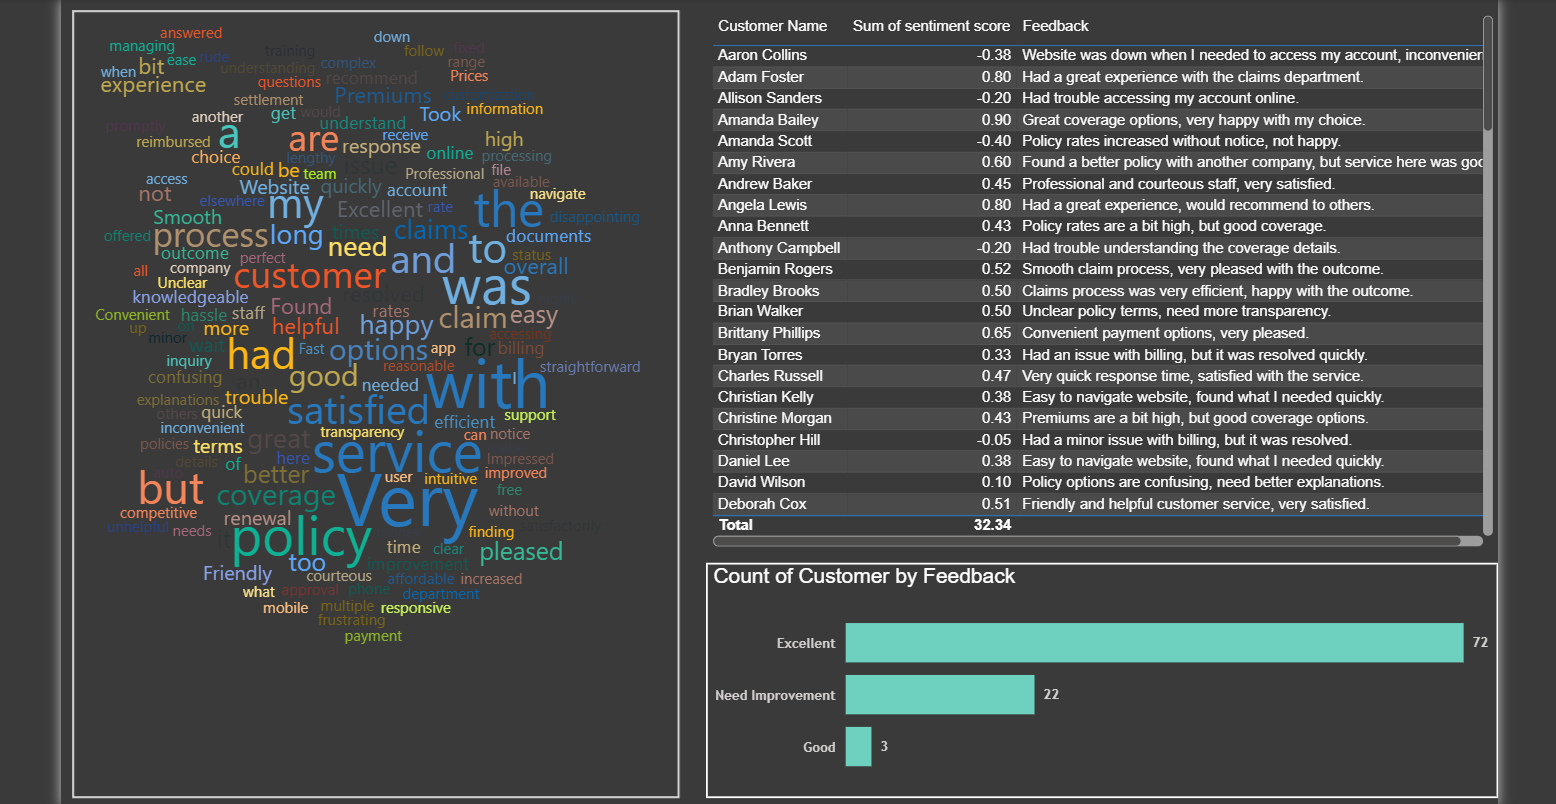

Layout of this report page (visuals, bound fields, positions):
{"tool":"powerbi","page":{"name":"Page 2","canvas":[1280,720],"ordinal":1},"visuals":[{"type":"WordCloud1447959067750","fields":{"Category":["Sheet1.Value.Feedback"],"Values":["Min(Sheet1.Value.Feedback)"]},"box":[9.8,9.8,540.9,701.4],"z":0},{"type":"barChart","title":"Count of Customer by Feedback","fields":{"Category":["Sheet1.sentiment label"],"Y":["CountNonNull(Sheet1.Value.Customer Name)"]},"box":[574.6,501.9,705.8,209.3],"z":1},{"type":"tableEx","fields":{"Values":["Sheet1.Value.Customer Name","Sum(Sheet1.sentiment score)","Sheet1.Feedback"]},"box":[574.6,9.8,705.8,482.4],"z":2}]}

Visuals, with their boxes on the page's 1280x720 design canvas (x1, y1, x2, y2). These are canvas units, not pixel positions in the 1556x804 screenshot, which may show the page scaled, cropped or inside an application window:
WordCloud1447959067750 - Sheet1.Value.Feedback x Min(Sheet1.Value.Feedback): crop(10, 10, 551, 711)
"Count of Customer by Feedback" barChart: crop(575, 502, 1280, 711)
tableEx - Sheet1.Value.Customer Name x Sum(Sheet1.sentiment score): crop(575, 10, 1280, 492)
